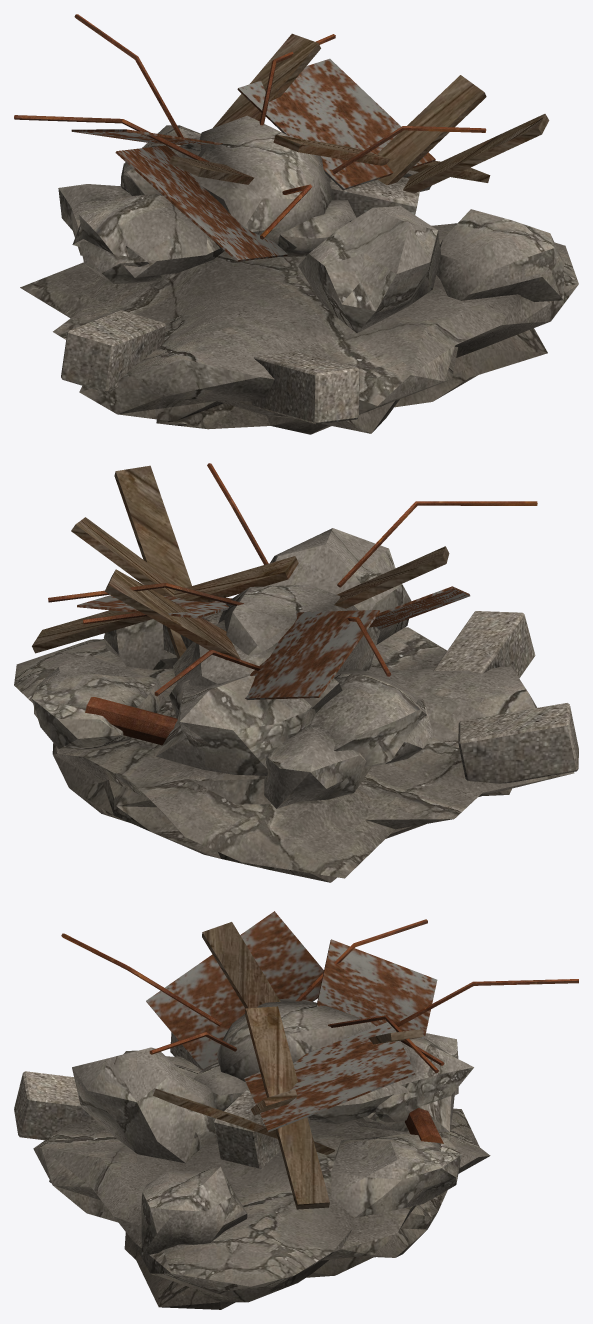
The model's file is debris_pile.glb.
The picture shows the model from 3 angles, top to bottom: view 1: azimuth 30°, elevation 25°; view 2: azimuth 150°, elevation 25°; view 3: azimuth 270°, elevation 25°; orthographic projection. The views are drawn at different scales.
Parts seen in each view (by area): view 1: debris_pile_concrete_cracked, debris_pile_galvanized, debris_pile_concrete, debris_pile_wood_planks, debris_pile_rust_metal; view 2: debris_pile_concrete_cracked, debris_pile_wood_planks, debris_pile_concrete, debris_pile_galvanized, debris_pile_rust_metal; view 3: debris_pile_concrete_cracked, debris_pile_galvanized, debris_pile_wood_planks, debris_pile_concrete, debris_pile_rust_metal.
Part boxes in pixels (x1=…): debris_pile_concrete_cracked: x1=20, y1=115, x2=578, y2=434; debris_pile_galvanized: x1=71, y1=58, x2=435, y2=261; debris_pile_concrete: x1=61, y1=177, x2=419, y2=424; debris_pile_wood_planks: x1=169, y1=33, x2=549, y2=193; debris_pile_rust_metal: x1=14, y1=14, x2=486, y2=239; debris_pile_concrete_cracked: x1=14, y1=528, x2=574, y2=882; debris_pile_wood_planks: x1=32, y1=465, x2=449, y2=660; debris_pile_concrete: x1=163, y1=611, x2=578, y2=783; debris_pile_galvanized: x1=77, y1=586, x2=470, y2=699; debris_pile_rust_metal: x1=48, y1=463, x2=537, y2=745; debris_pile_concrete_cracked: x1=33, y1=998, x2=490, y2=1309; debris_pile_galvanized: x1=146, y1=911, x2=437, y2=1131; debris_pile_wood_planks: x1=153, y1=922, x2=422, y2=1209; debris_pile_concrete: x1=14, y1=1032, x2=311, y2=1169; debris_pile_rust_metal: x1=61, y1=919, x2=578, y2=1143.
Bounding box in the file's own units: 2.21 × 1.02 × 2.21.
5 materials, 5 textured.
